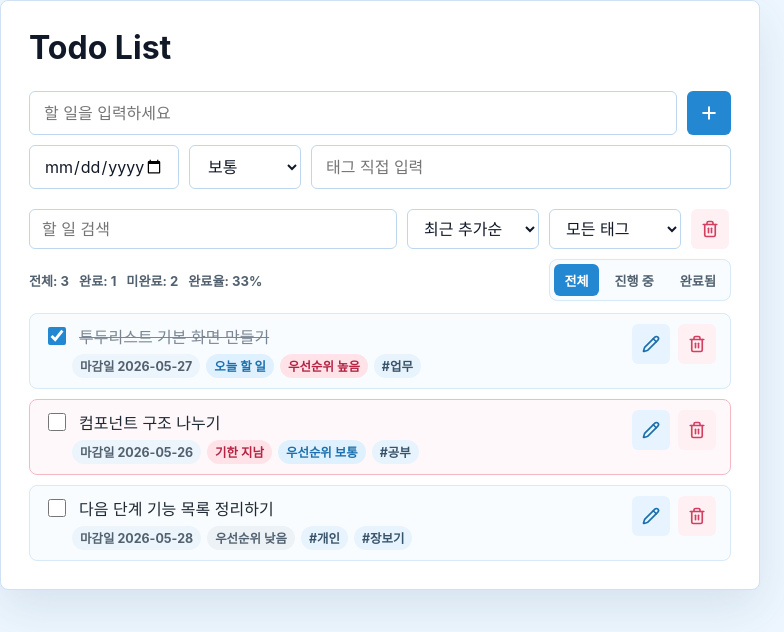
TodoApp › 할 일을 삭제할 수 있다.
The image size is (784, 632).
Click the button named "컴포넌트 구조 나누기 삭제".
click(697, 430)  # box [678,410,716,450]
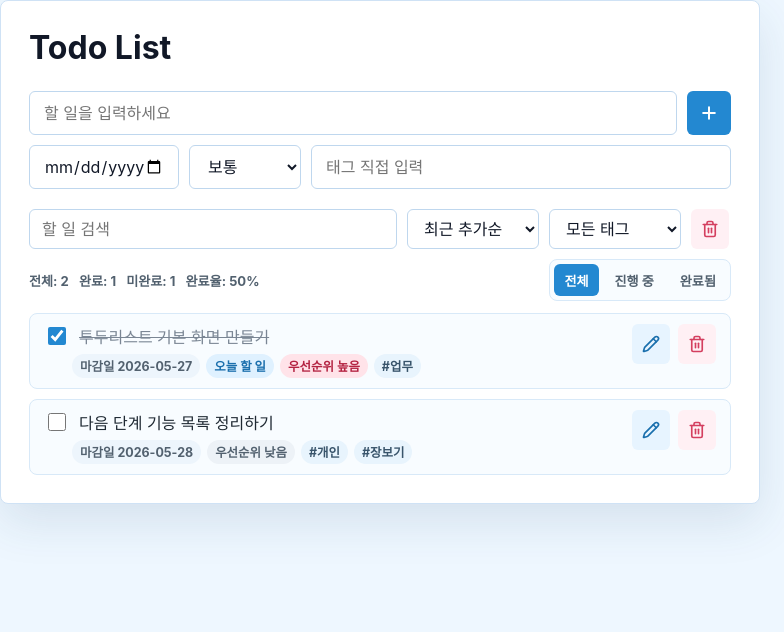
expect the text "컴포넌트 구조 나누기" is gone: met
